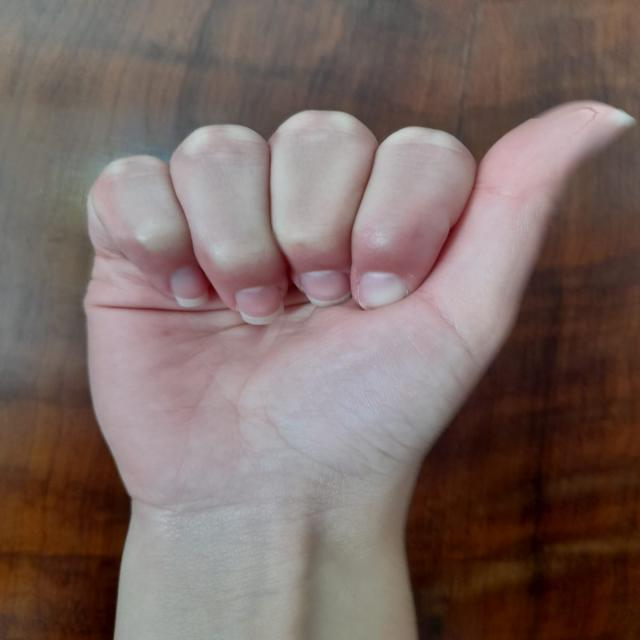A: (37, 66, 632, 576)
